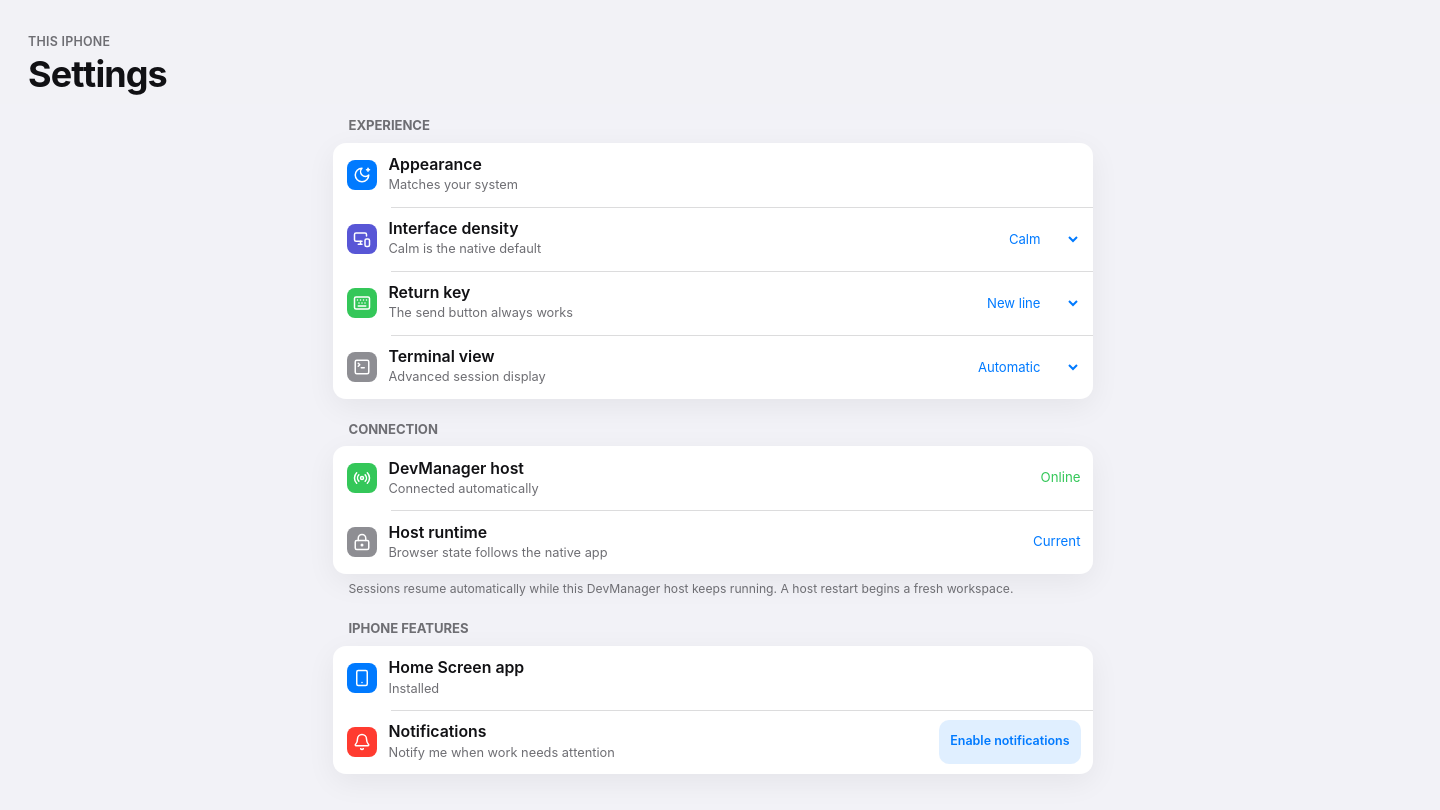
Test: notification settings › never requests permission until the accessible Enable button is clicked
Click the button "Enable notifications". click: click(1010, 742)
box: [939,720,1081,764]
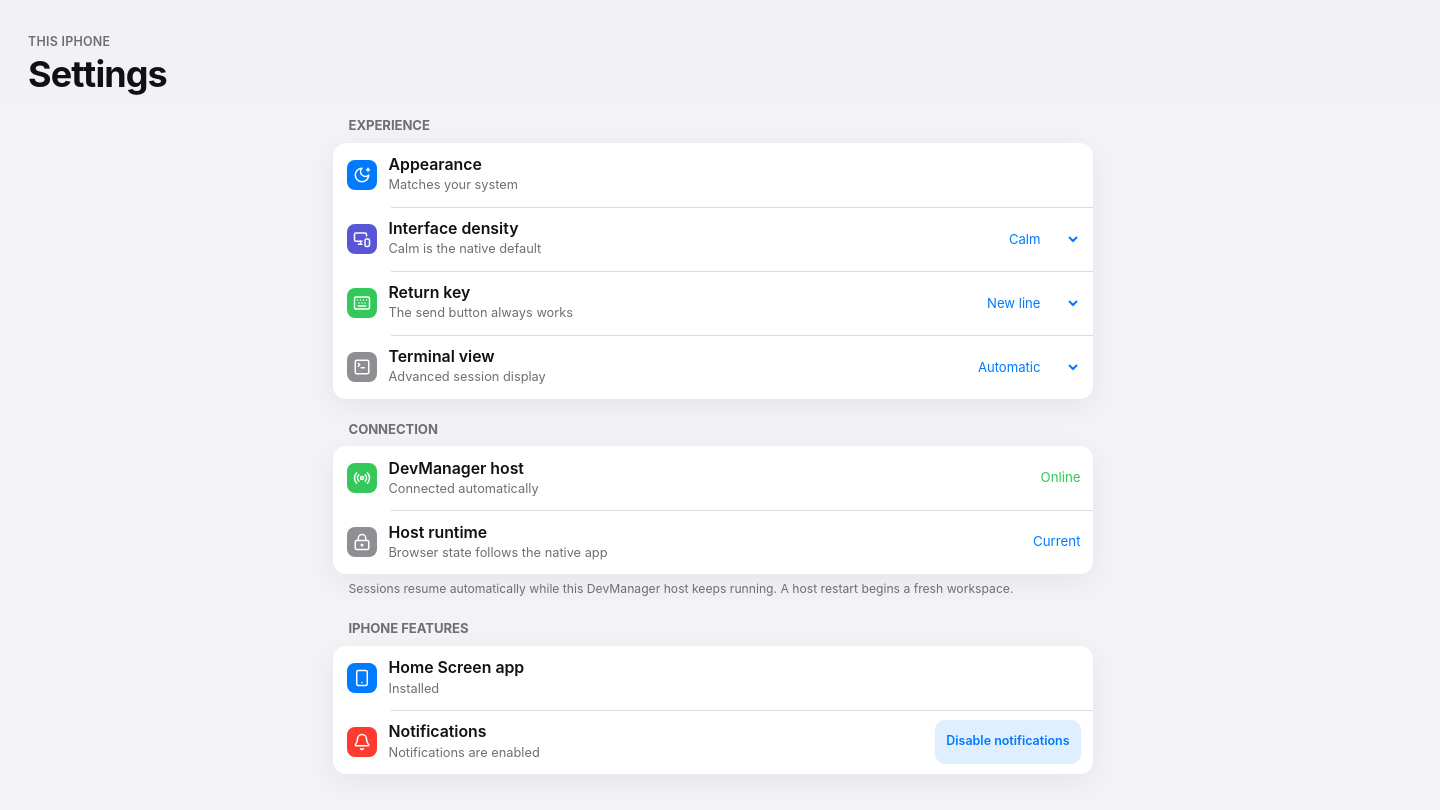
Now the text "Notifications are enabled" is shown, box [388,744,540,760]
